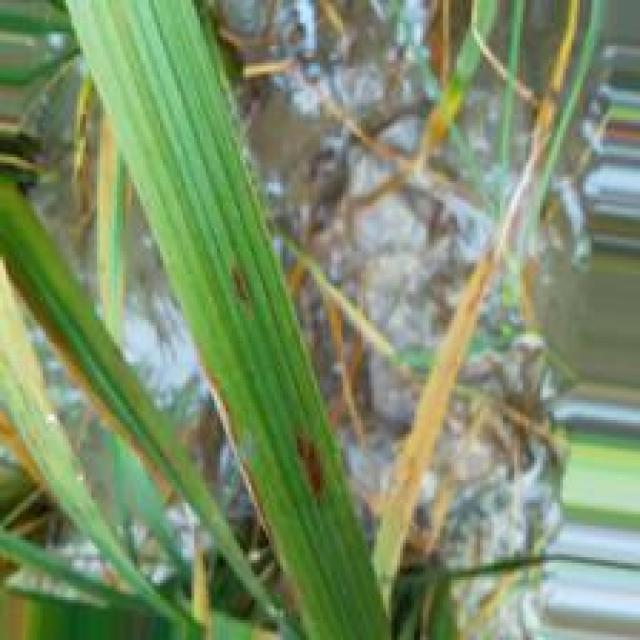Brown_Spot: (197, 347, 285, 566), (294, 430, 325, 505), (233, 265, 246, 312)
